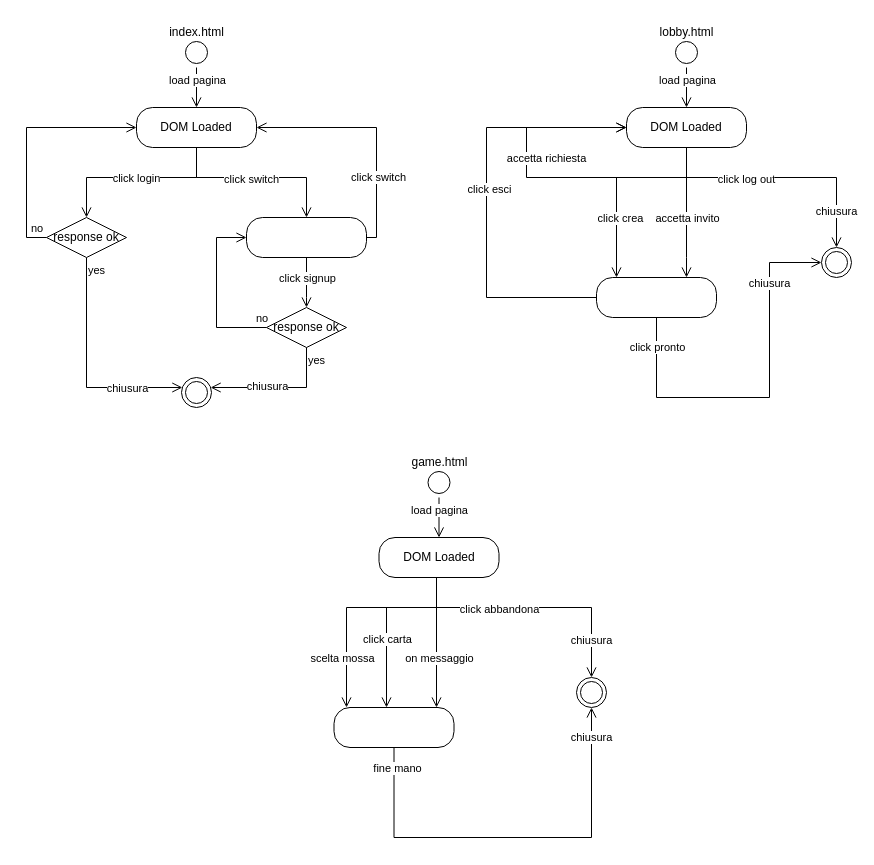
This 874x865 diagram has some shape labels left out. Here are the shapes that lost their labels. From the top down, the box of each, then its label:
(246, 216, 366, 258): Render form di signup
(596, 276, 716, 318): Render tavolo
(333, 706, 454, 748): Render carte e tavolo
